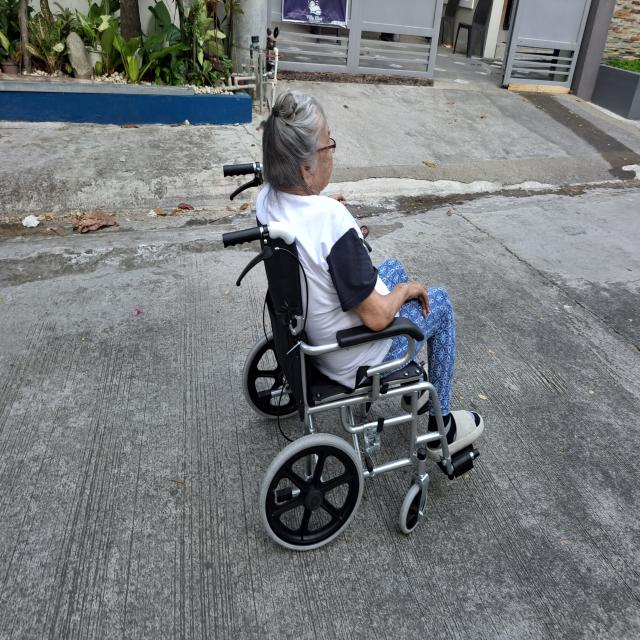wheelchairs: (222, 155, 485, 554)
